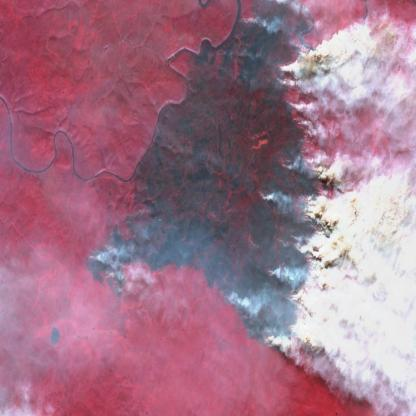fire: (212, 0, 339, 356)
